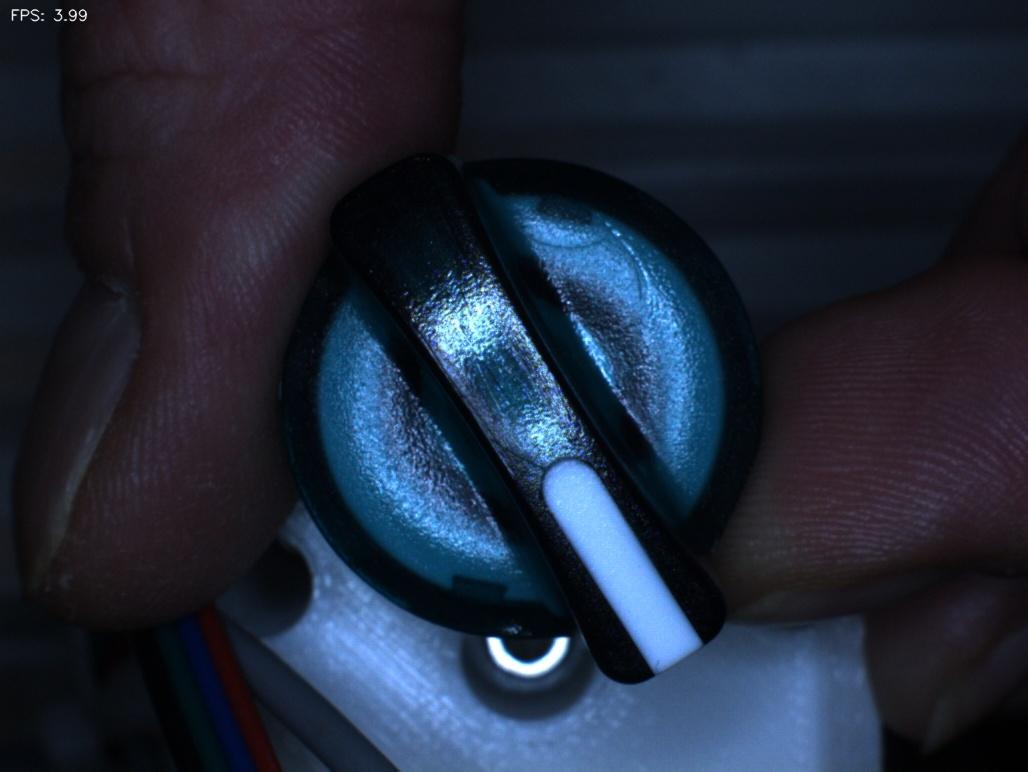Choc: (476, 588, 548, 666)
